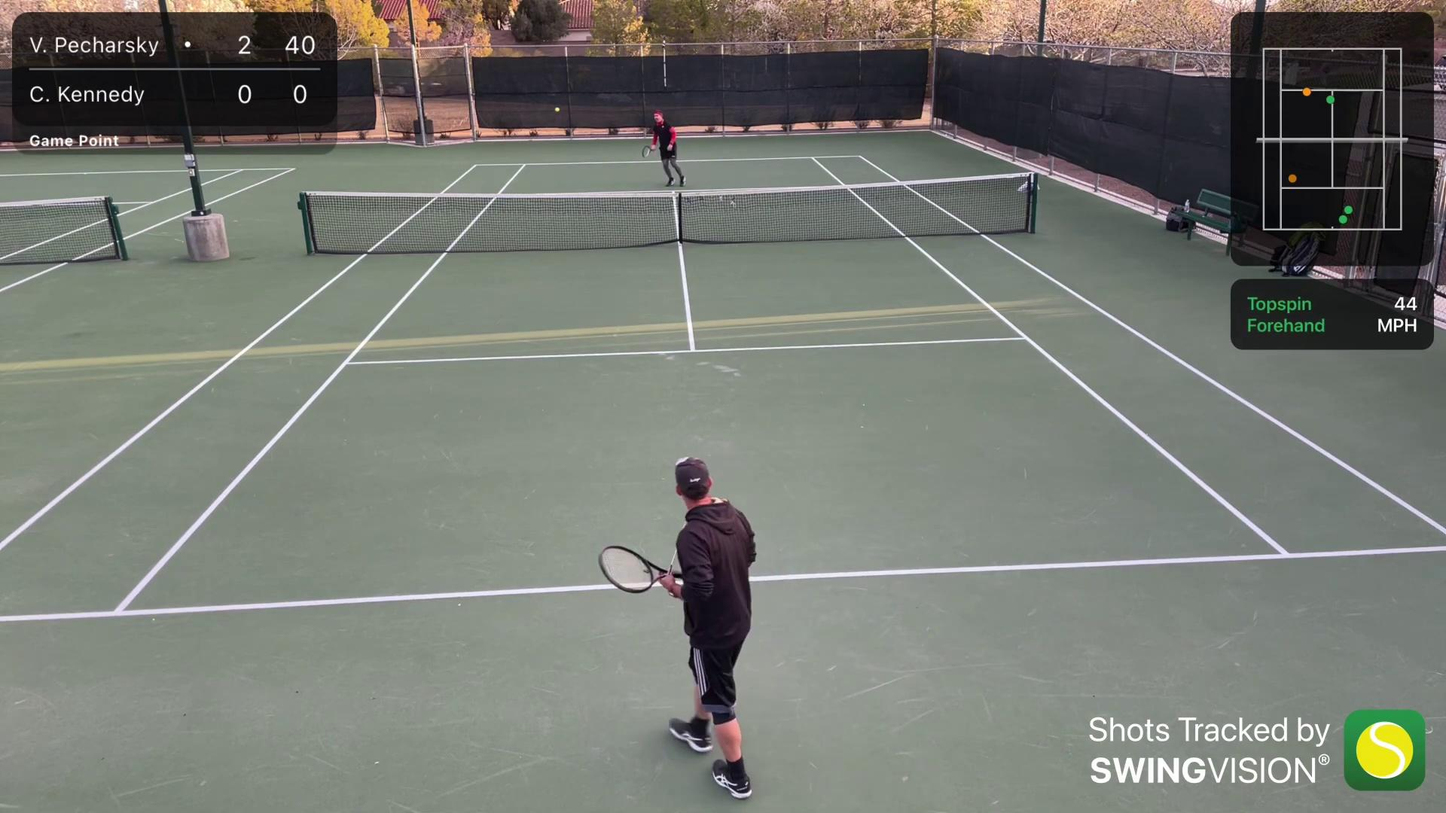ball: (554, 106, 559, 113)
